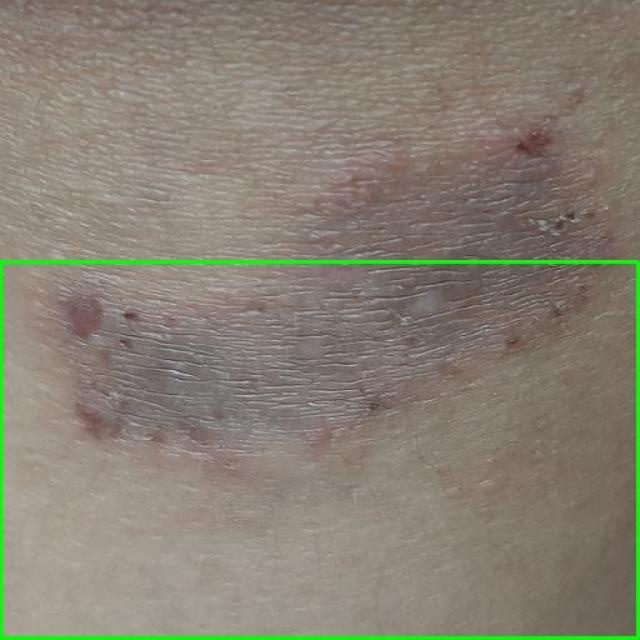Tinea Corporis: (0, 261, 639, 639)
